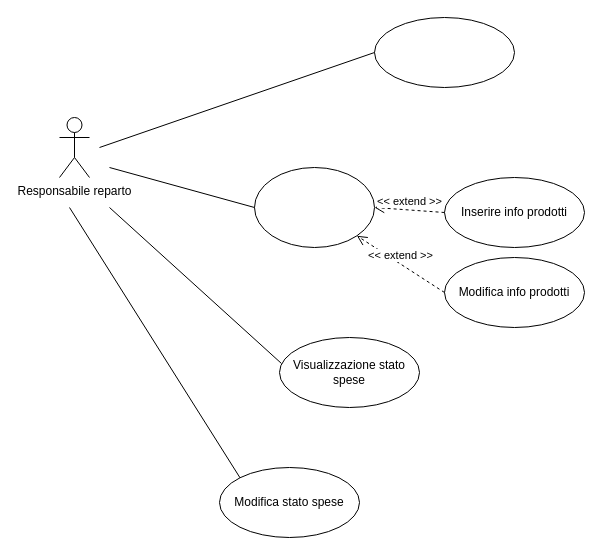
Image size: 602x555. Some labels were removed from this diagram. Each missing label, with the centre of its shape:
"Autenticazione" belongs at (x=444, y=52).
"Gestione prodotti" belongs at (x=314, y=207).
